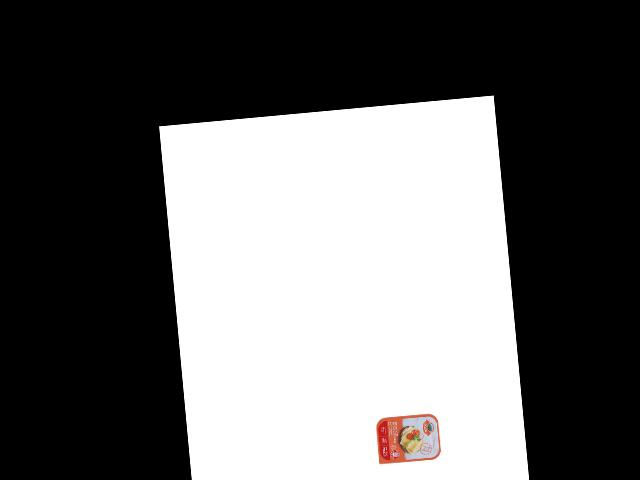cheese: (371, 409, 443, 465)
